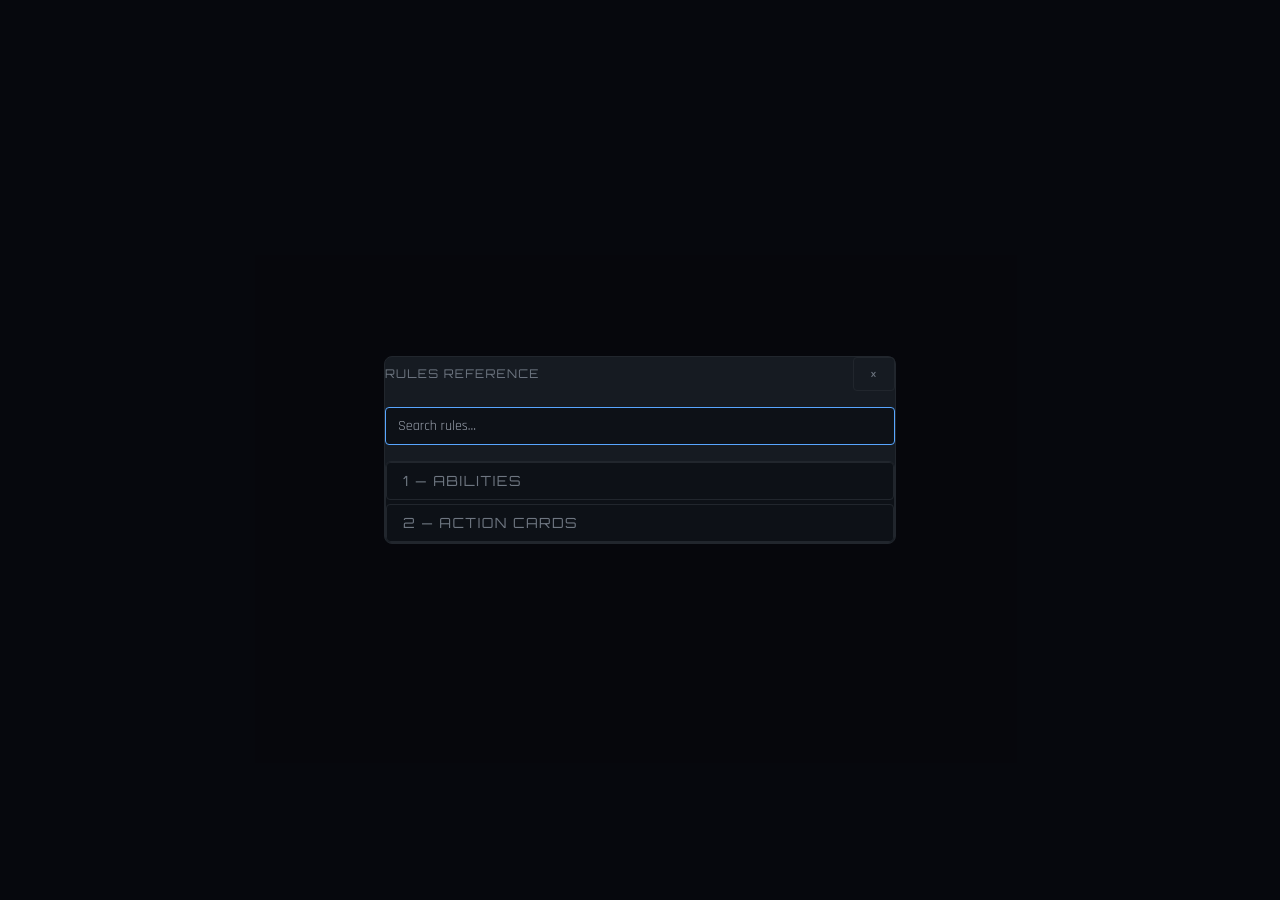
RulesModal › clicking same section again collapses it
Step 1. Click the button with test id "section-1" → (478, 480), box [386,462,894,500]
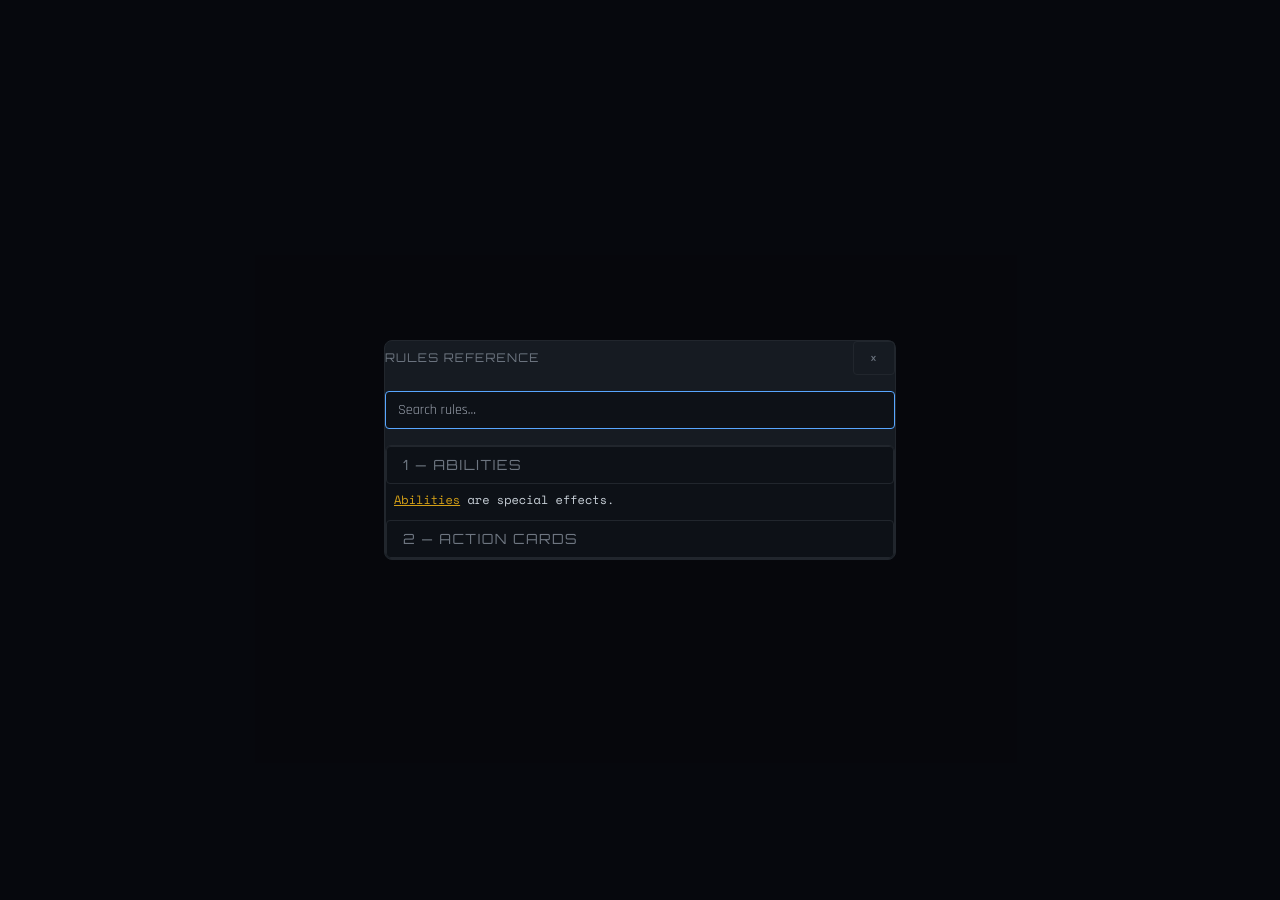
Step 2. Click the button with test id "section-1" → (478, 464), box [386,446,894,484]
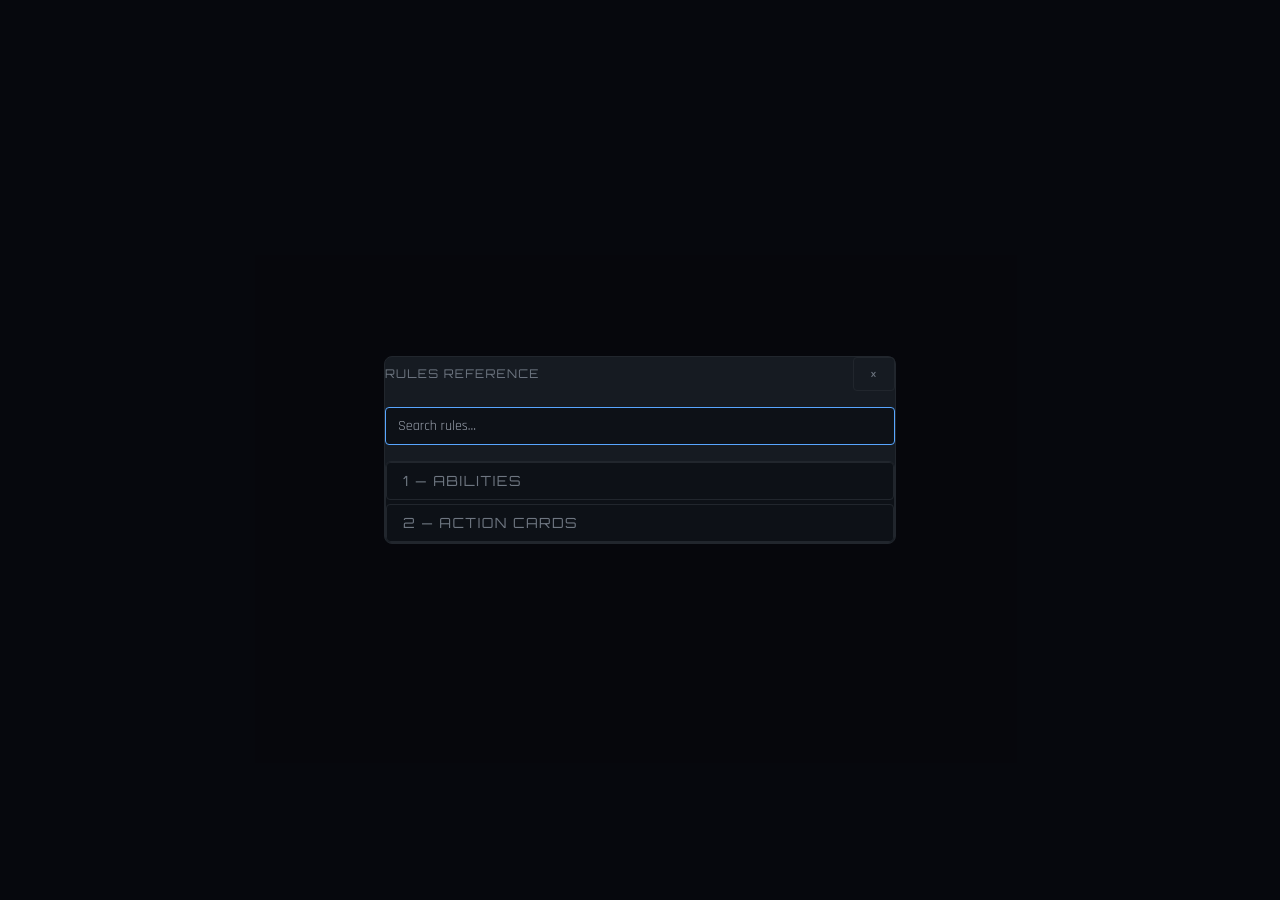
Check: the element with test id "body-1" is gone
